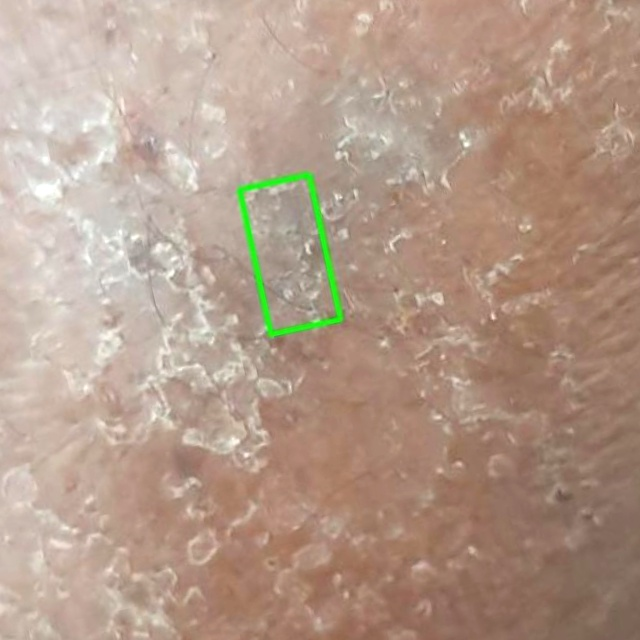Eczema: (239, 174, 340, 334)
